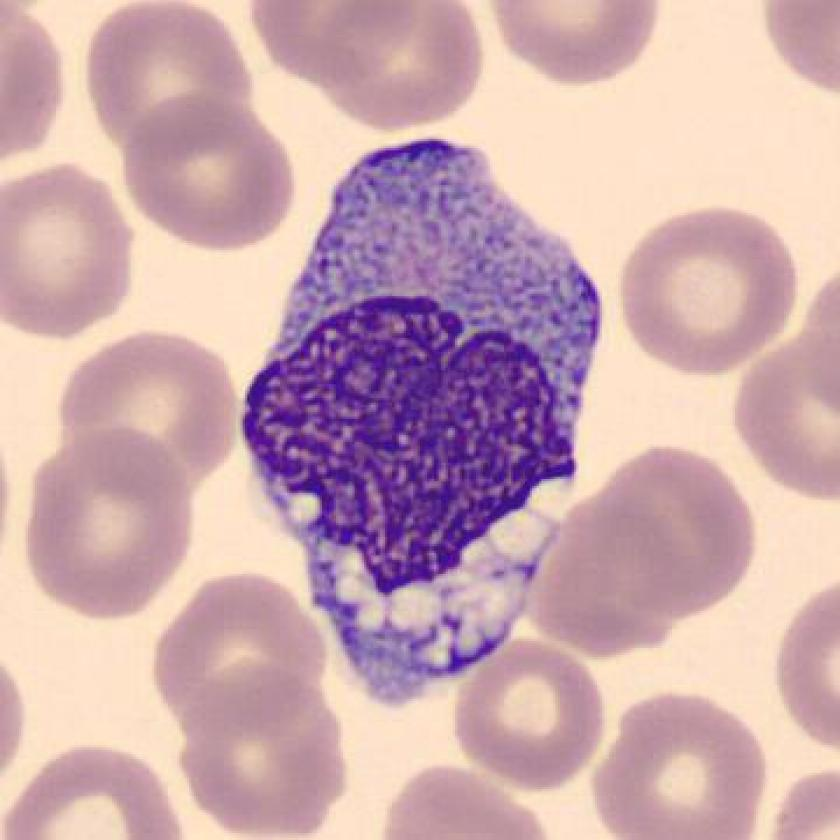monocyte: (221, 117, 620, 723)
